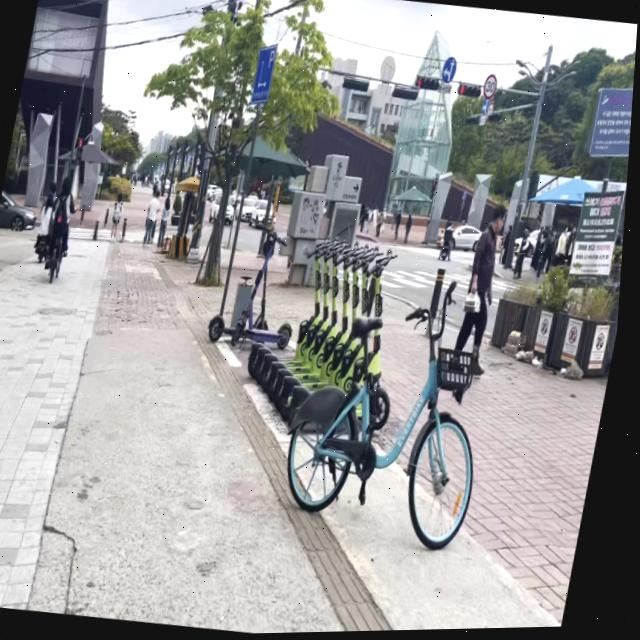kickboard_no: (264, 397, 491, 560), (200, 315, 234, 353)
kickboard_ok: (276, 247, 328, 402)
tactile_paving: (311, 552, 426, 632)
